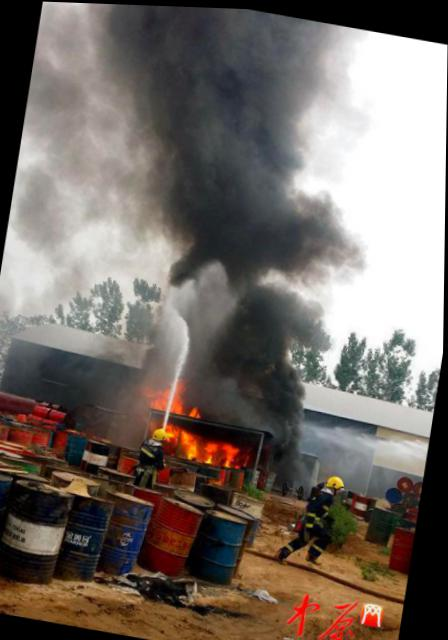fire: (162, 420, 199, 457), (152, 377, 187, 412), (194, 436, 237, 463), (188, 404, 201, 417)
